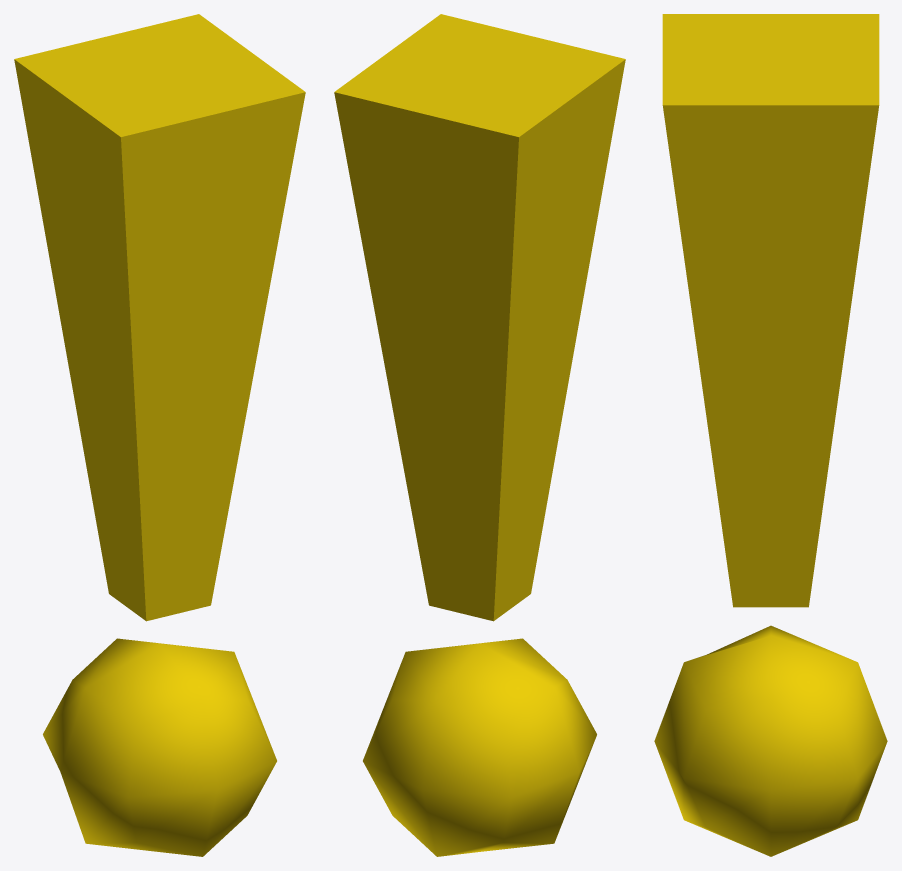
File: POINTDEEXCLAMATION.fbx
3 views of the same model, side by side, from view 1: azimuth 30°, elevation 25°; view 2: azimuth 150°, elevation 25°; view 3: azimuth 270°, elevation 25° (orthographic).
Parts seen in each view (by area): view 1: pCube2, pCube1; view 2: pCube2, pCube1; view 3: pCube2, pCube1.
Boxes of the visible parts, x1,y1,x2,y2 form: pCube2: (14, 14, 305, 621); pCube1: (43, 638, 276, 856); pCube2: (334, 14, 625, 621); pCube1: (363, 638, 596, 856); pCube2: (662, 14, 879, 607); pCube1: (654, 625, 887, 856).
Bounding box in the file's own units: 1.08 × 4.01 × 1.08.
